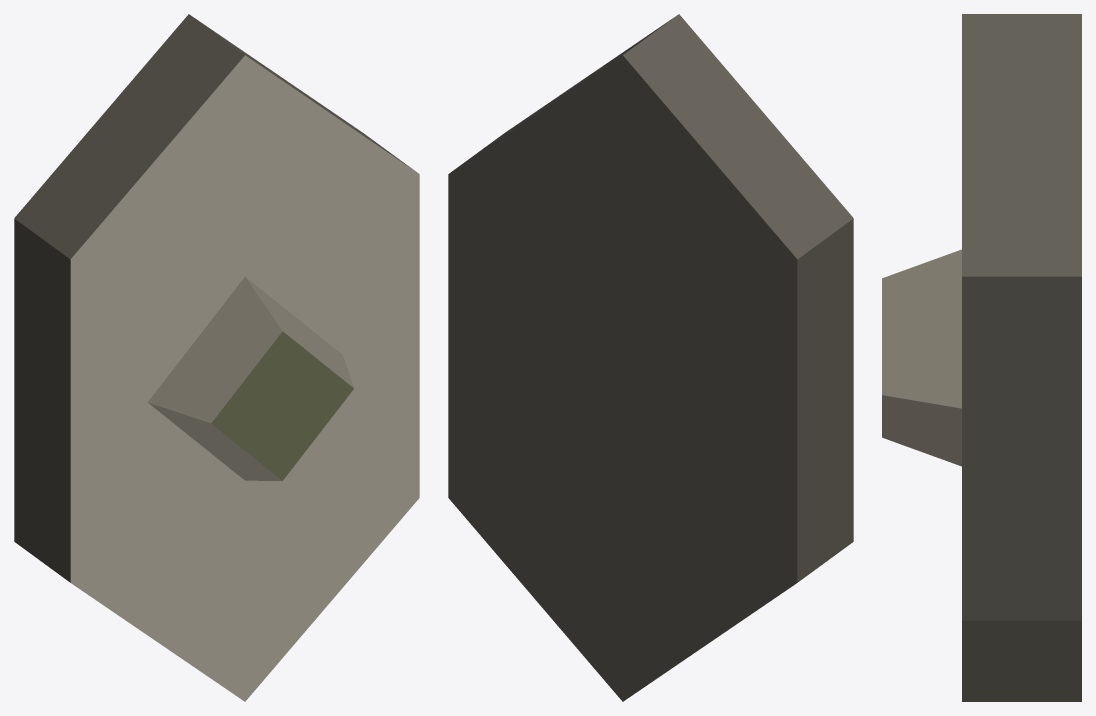
The model's file is armor_plate_b.obj.
The picture shows the model from 3 angles, left to right: view 1: azimuth 30°, elevation 25°; view 2: azimuth 150°, elevation 25°; view 3: azimuth 270°, elevation 25°; orthographic projection. The views are drawn at different scales.
Parts seen in each view (by area): view 1: armor_plate_b; view 2: armor_plate_b; view 3: armor_plate_b.
Boxes of the visible parts, x1=… form: armor_plate_b: x1=14, y1=14, x2=419, y2=701; armor_plate_b: x1=448, y1=14, x2=853, y2=701; armor_plate_b: x1=882, y1=14, x2=1081, y2=701.
Bounding box in the file's own units: 1.07 × 1.9 × 0.5.
